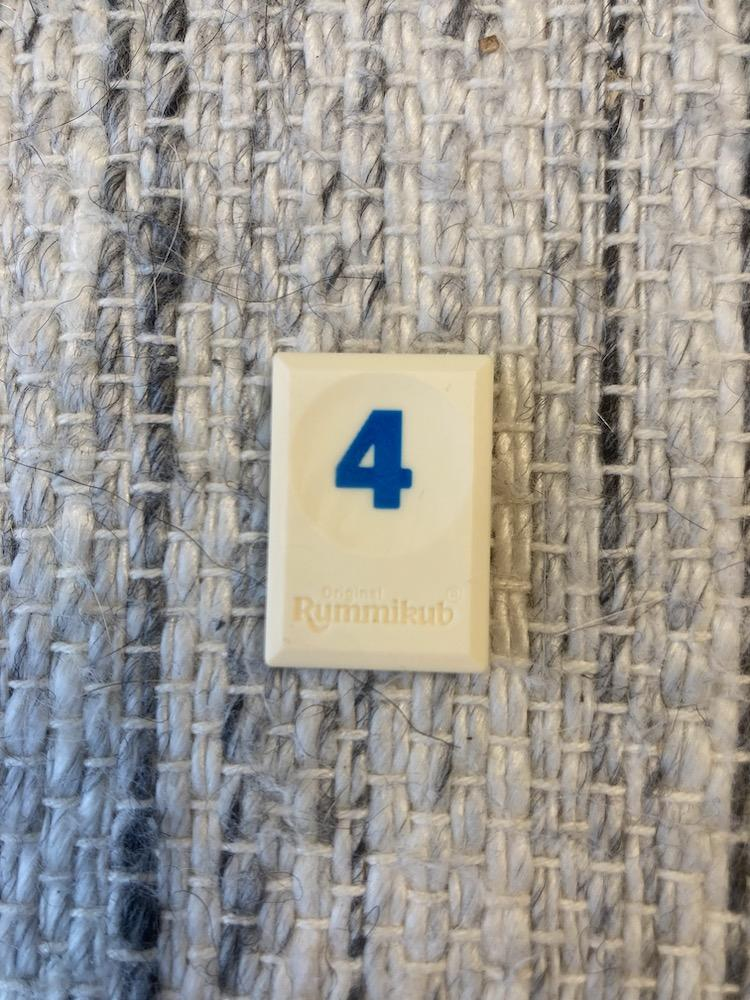blue_4: (266, 354, 492, 672)
